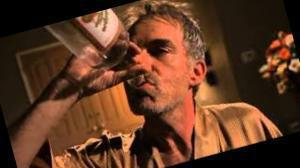Drunk: (130, 25, 180, 113)
